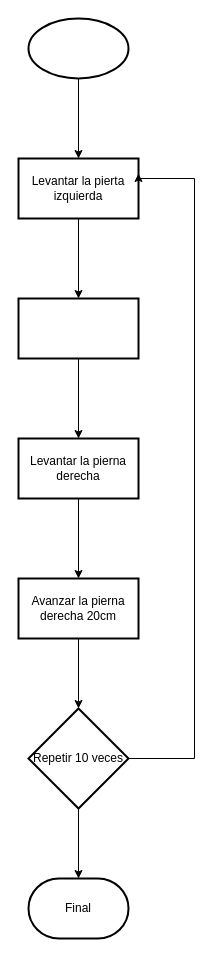
The diagram is 220 pixels wide and 956 high, and some of its shapes have lost their labels. The centre of each missing label's shape, as x and y in pixels:
"Avanzar 10cm la pierna" goes at point (78, 328).
"Inicio" goes at point (78, 48).
